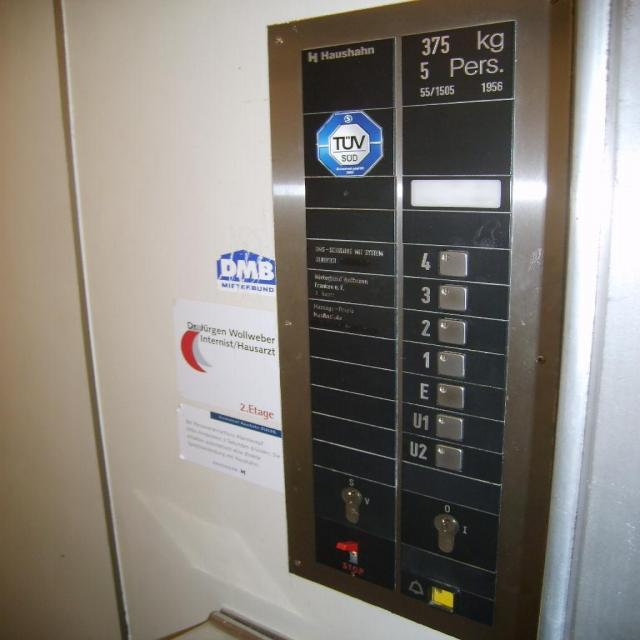1: (399, 343, 509, 384)
2: (399, 308, 510, 354)
3: (400, 276, 512, 321)
4: (400, 241, 512, 286)
E: (398, 373, 508, 418)
U1: (398, 402, 508, 446)
U2: (396, 435, 506, 480)
alarm: (398, 568, 500, 631)
empty: (408, 177, 502, 209)
keyhole: (432, 512, 458, 552), (339, 487, 363, 523)
stop: (332, 540, 366, 576)
